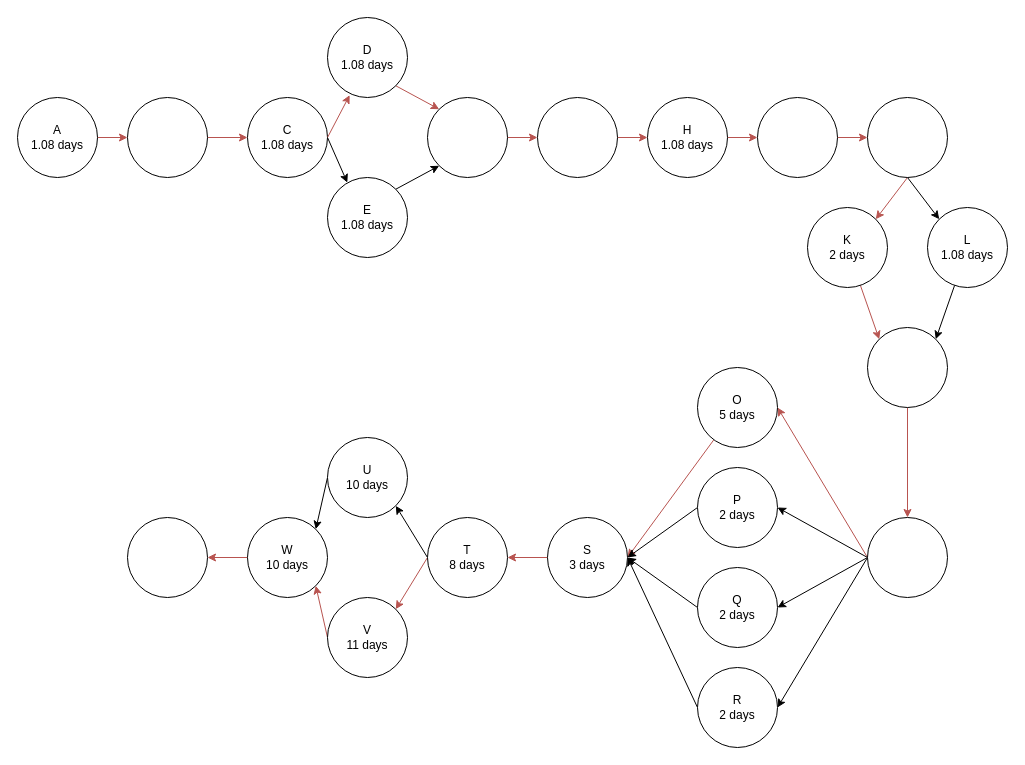
The diagram is 1025 pixels wide and 765 high, and some of its shapes have lost their labels. The centre of each missing label's shape, as x and y in pixels:
B 1.08 days: the point at 167,137
F 1.08 days: the point at 467,137
G 1.08 days: the point at 577,137
I 1.08 days: the point at 797,137
J 1.08 days: the point at 907,137
M 3 days: the point at 907,367
N 1.08 days: the point at 907,557
X 1.08 days: the point at 167,557
